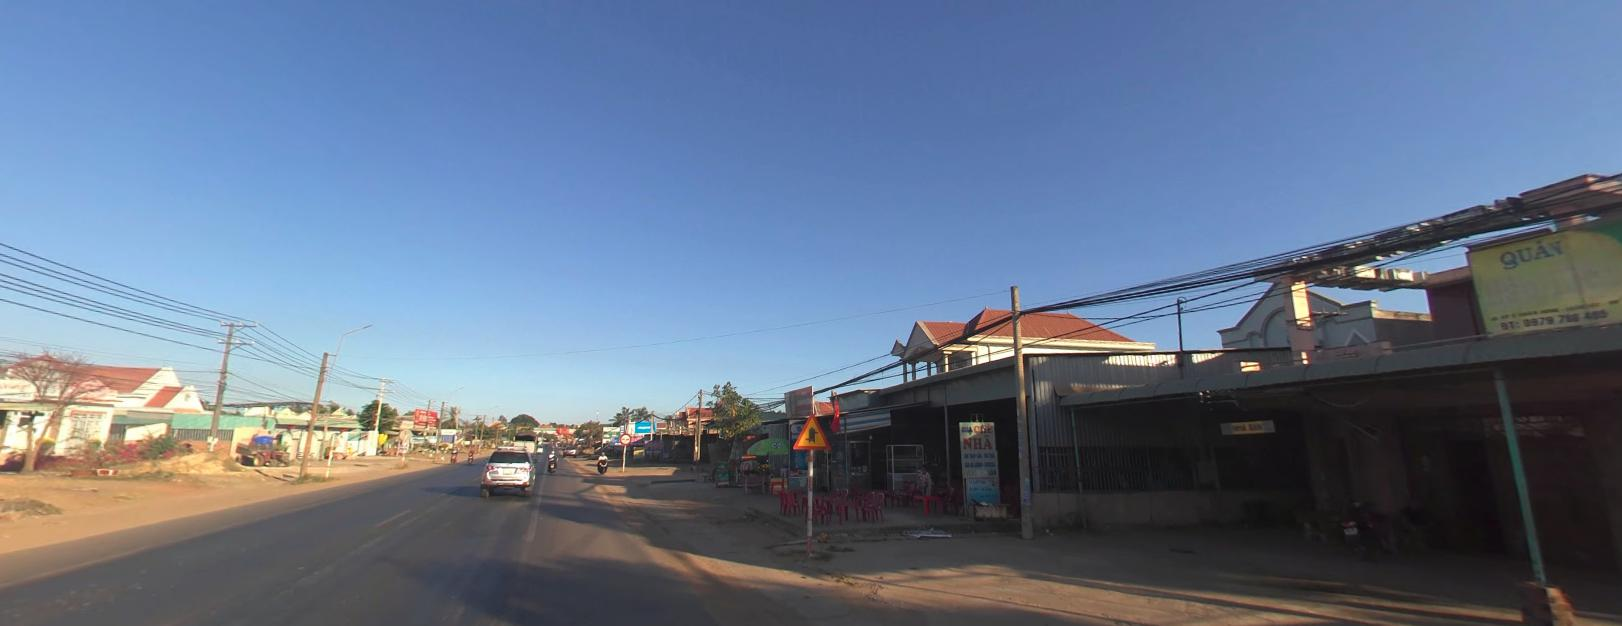Cam con lai: (619, 431, 630, 443)
Nguy hiem: (790, 412, 833, 450)
